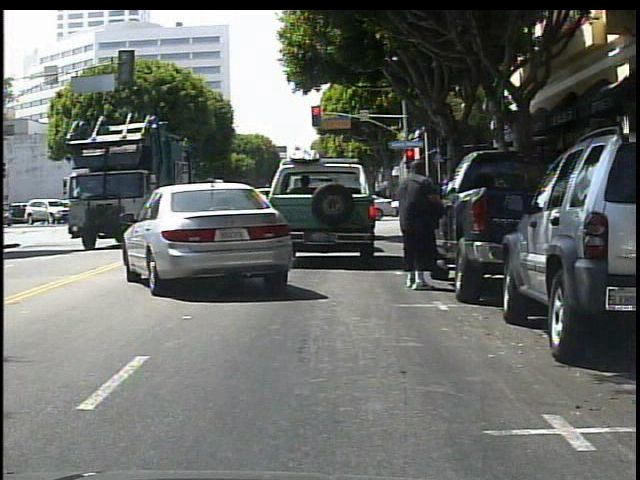person: (398, 157, 449, 292)
